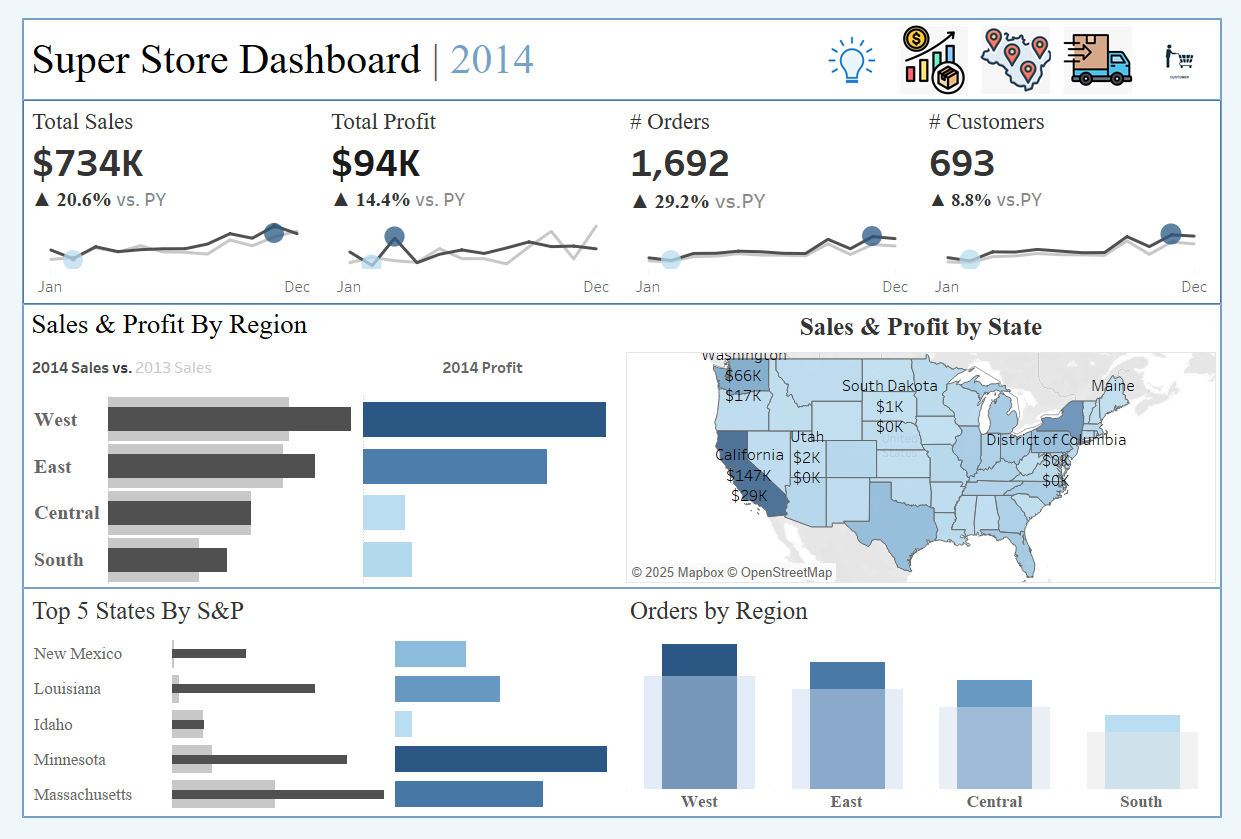

This screenshot's page, from the dashboard's own definition file:
{"tool":"tableau","page":{"name":"Super_Store_Dashboard 0","canvas":[1200,800],"ordinal":0},"visuals":[{"type":"text","box":[2,2,786,79]},{"type":"dashboard-object","box":[788,2,82,79]},{"type":"dashboard-object","box":[870,2,82,79]},{"type":"dashboard-object","box":[952,2,82,79]},{"type":"dashboard-object","box":[1034,2,82,79]},{"type":"dashboard-object","box":[1116,2,82,79]},{"type":"parameter","param":"[Parameters].[Order Year Parameter]","box":[564,15,154,35.9]},{"type":"legend","title":"Sales & Profit Over Time","param":"[federated.1f1h3uc1jm1pvb1bxfcov0sczj9y].[usr:Calculation_1391330877273645061:nk","box":[564,50.9,154,35.9]},{"type":"worksheet","title":"KPI Sales 0","mark":"Line","rows":["Sales","Min/Max Sales (copy)_3207407427292659714"],"cols":["Order Period"],"box":[2,83,299,237]},{"type":"worksheet","title":"KPI Profit 0","mark":"Line","rows":["Profit","Min/Max Sales 0 (copy)_3207407427297476611"],"cols":["Order Period"],"box":[301,83,299,237]},{"type":"worksheet","title":"KPI Orders 0 ","mark":"Automatic","rows":["Order ID","Min/Max Customers (copy)_3207407427299741704"],"cols":["Order Period"],"box":[600,83,299,237]},{"type":"worksheet","title":"KPI Customer 0","mark":"Line","rows":["Customer ID","Min/Max Order 0 (copy)_3207407427302547466"],"cols":["Order Period"],"box":[899,83,299,237]},{"type":"legend","title":"Sales & Profit Over Time","param":"[federated.1f1h3uc1jm1pvb1bxfcov0sczj9y].[usr:KPI Sales Avg (copy)_1391330877274","box":[564,86.7,154,35.9]},{"type":"legend","title":"KPI Sales 0","param":"[federated.1f1h3uc1jm1pvb1bxfcov0sczj9y].[usr:Min/Max Sales (copy)_3207407427292","box":[564,122.6,154,35.9]},{"type":"legend","title":"KPI Profit 0","param":"[federated.1f1h3uc1jm1pvb1bxfcov0sczj9y].[usr:Min/Max Sales 0 (copy)_32074074272","box":[564,158.4,154,35.9]},{"type":"legend","title":"KPI Customer 0","param":"[federated.1f1h3uc1jm1pvb1bxfcov0sczj9y].[usr:Min/Max Order 0 (copy)_32074074273","box":[564,194.3,154,35.9]},{"type":"legend","title":"KPI Orders 0 ","param":"[federated.1f1h3uc1jm1pvb1bxfcov0sczj9y].[usr:Min/Max Customers (copy)_320740742","box":[564,230.1,154,35.9]},{"type":"worksheet","title":"Sales & Profit Over Time","mark":"Line","rows":["Sales","Profit"],"cols":["Order Period"],"box":[2,322,1196,476]}]}

Visuals, with their boxes in screenshot pixels (x1, y1, x2, y2), scaled from the page's 1200x800 canvas onto the 1241x839 screenshot:
text: 2,2,815,85
dashboard-object: 815,2,900,85
dashboard-object: 900,2,985,85
dashboard-object: 985,2,1069,85
dashboard-object: 1069,2,1154,85
dashboard-object: 1154,2,1239,85
parameter: 583,16,743,53
"Sales & Profit Over Time" legend: 583,53,743,91
"KPI Sales 0" worksheet (Line marks): 2,87,311,336
"KPI Profit 0" worksheet (Line marks): 311,87,620,336
"KPI Orders 0 " worksheet: 620,87,930,336
"KPI Customer 0" worksheet (Line marks): 930,87,1239,336
"Sales & Profit Over Time" legend: 583,91,743,129
"KPI Sales 0" legend: 583,129,743,166
"KPI Profit 0" legend: 583,166,743,204
"KPI Customer 0" legend: 583,204,743,241
"KPI Orders 0 " legend: 583,241,743,279
"Sales & Profit Over Time" worksheet (Line marks): 2,338,1239,837
